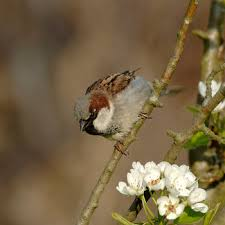hsparrow: (70, 54, 183, 163)
